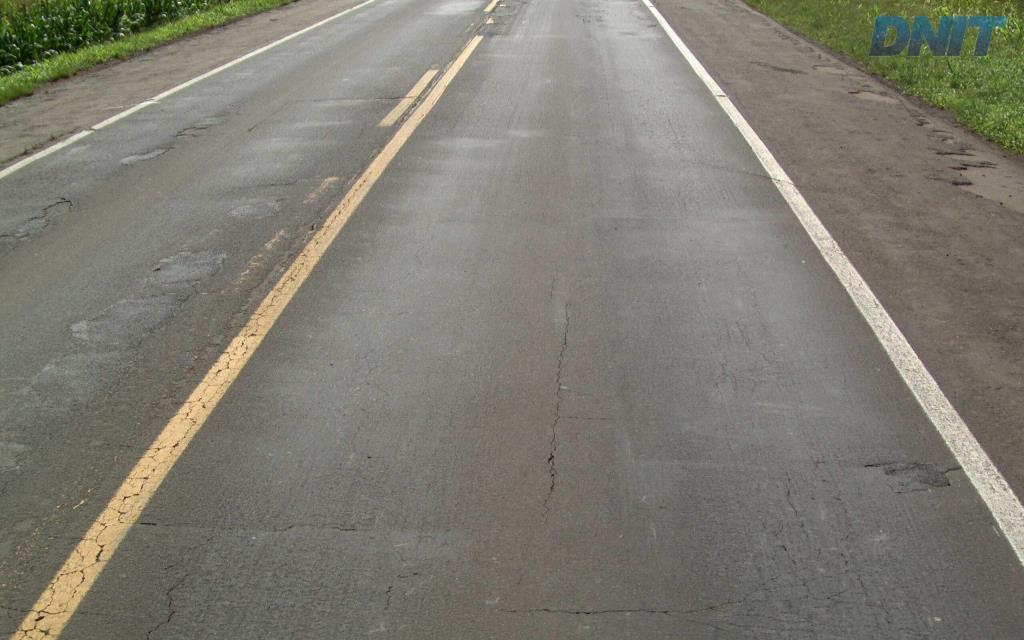crack: (863, 460, 950, 487)
